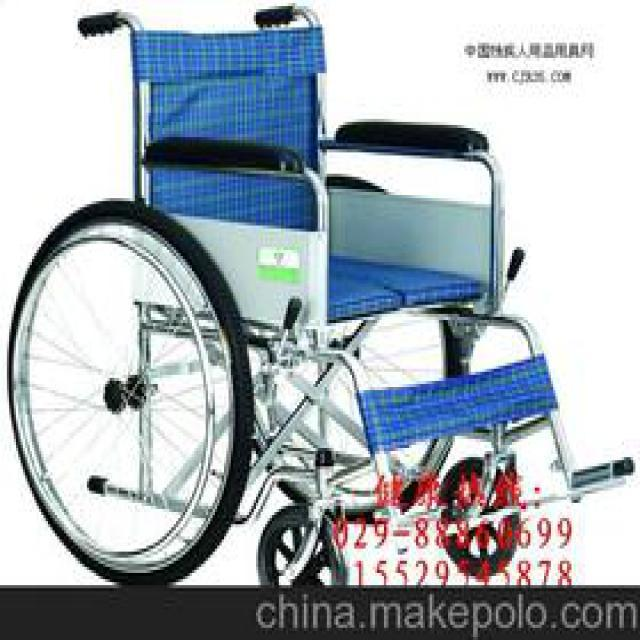wheelchair: (0, 0, 638, 588)
